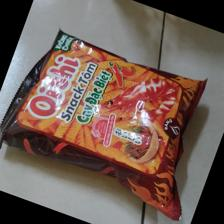Oishi_Cay: (2, 27, 210, 224)
